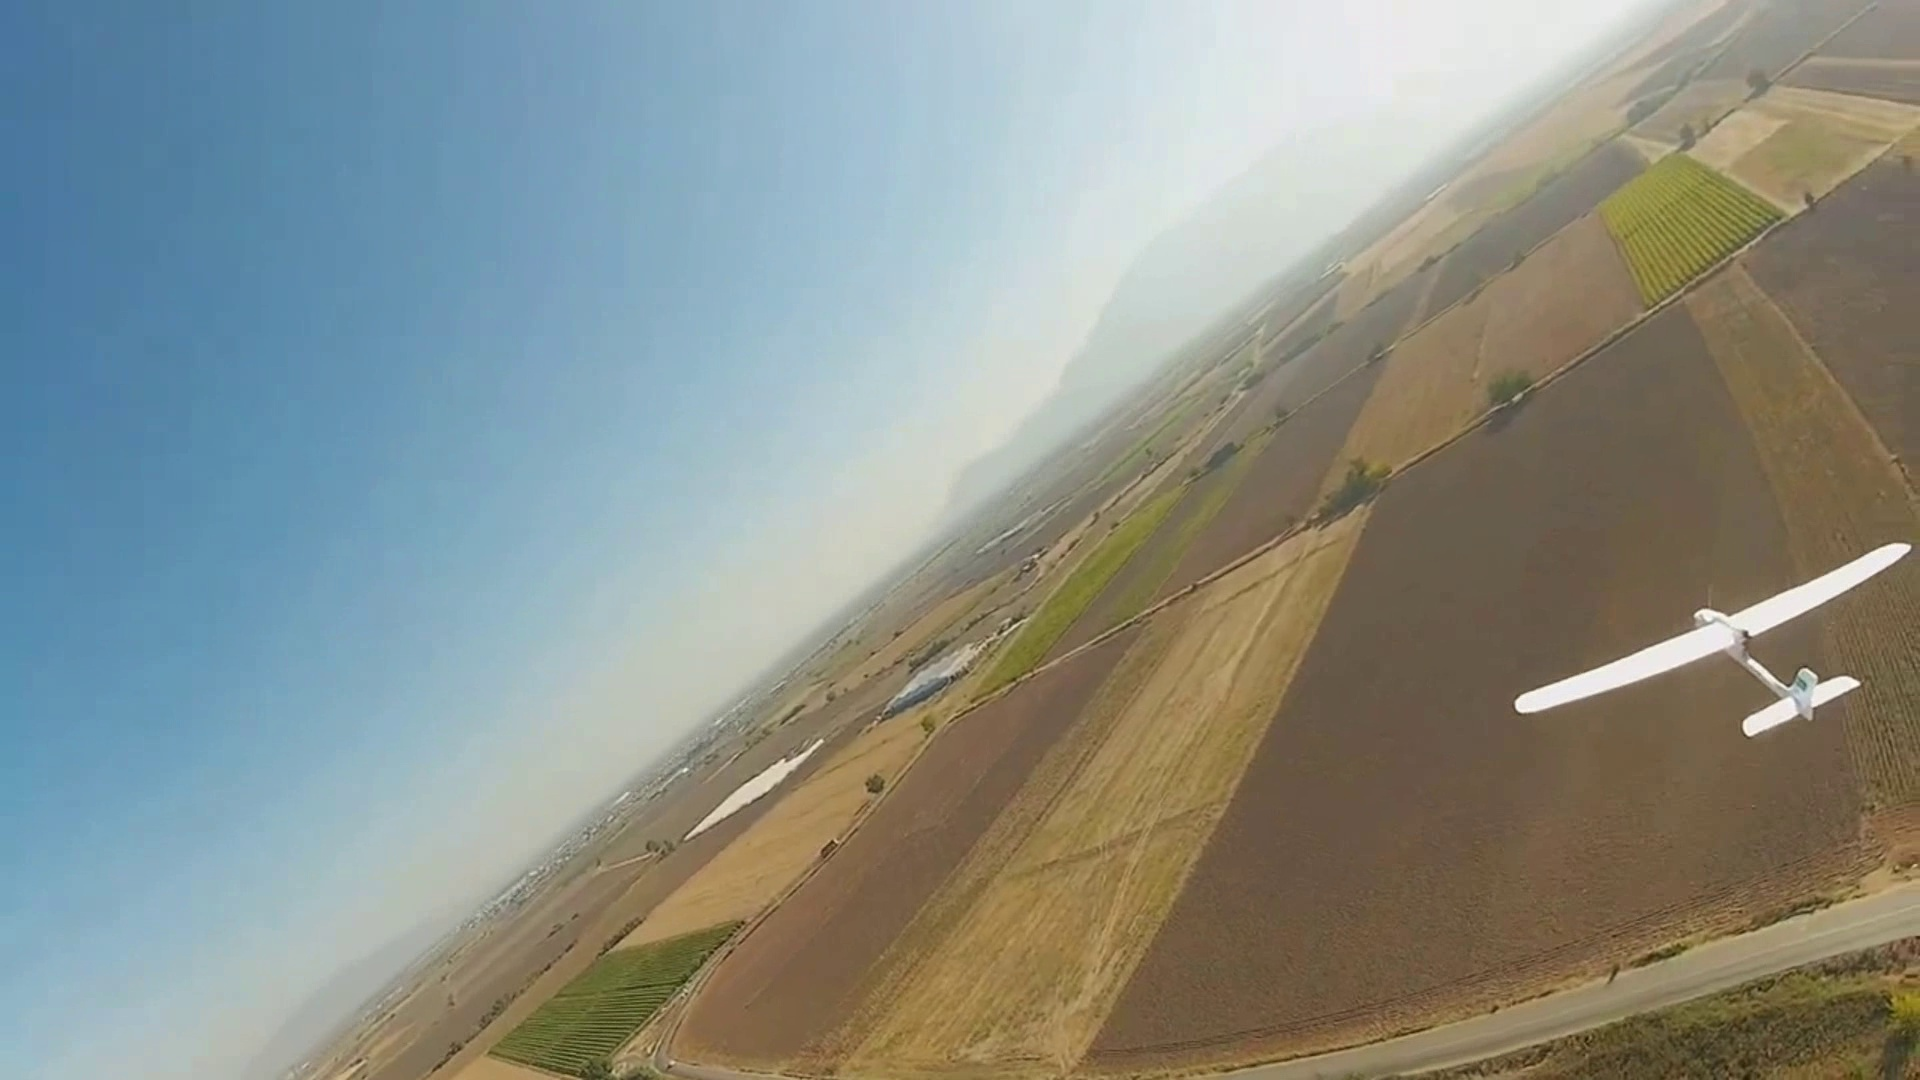airplane: (1515, 541, 1916, 738)
